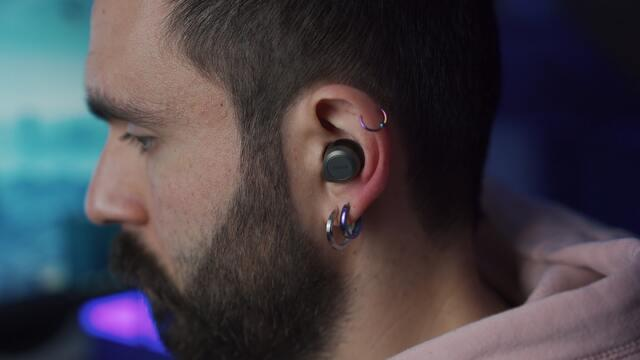earphone: (319, 134, 367, 188)
